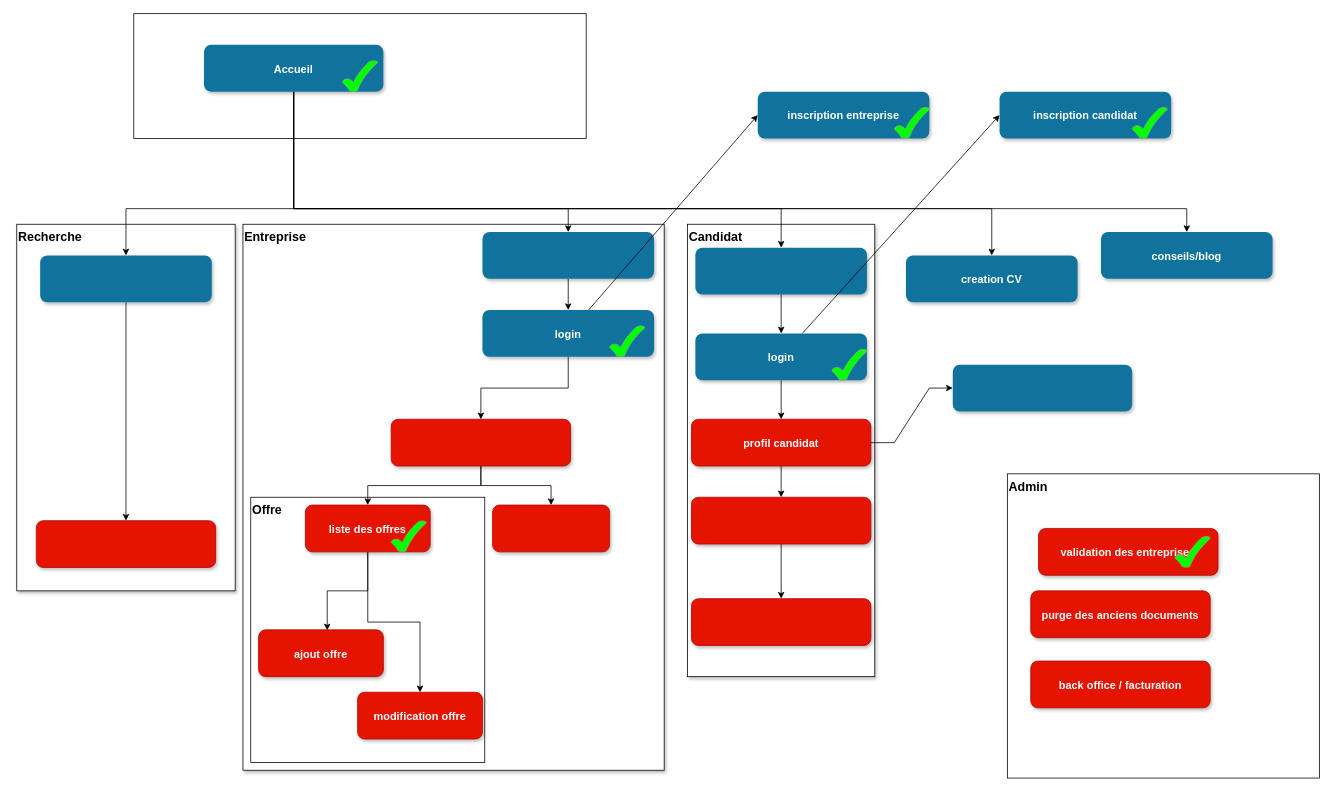
Some shapes in this 1333 by 792 pixel diagram are drawn without their labels. Here are the shapes that lost their labels. From the top down, the centre of each, then its label:
At (x=568, y=256): "espace entreprise".
At (x=781, y=272): "espace candidat".
At (x=126, y=279): "moteur de recherche liste offres".
At (x=1042, y=389): "profil public".
At (x=481, y=443): "dashboard recruteur".
At (x=551, y=529): "selection candidats".
At (x=782, y=521): "modification profil".
At (x=126, y=545): "détails offre".
At (x=782, y=623): "selection offres".
